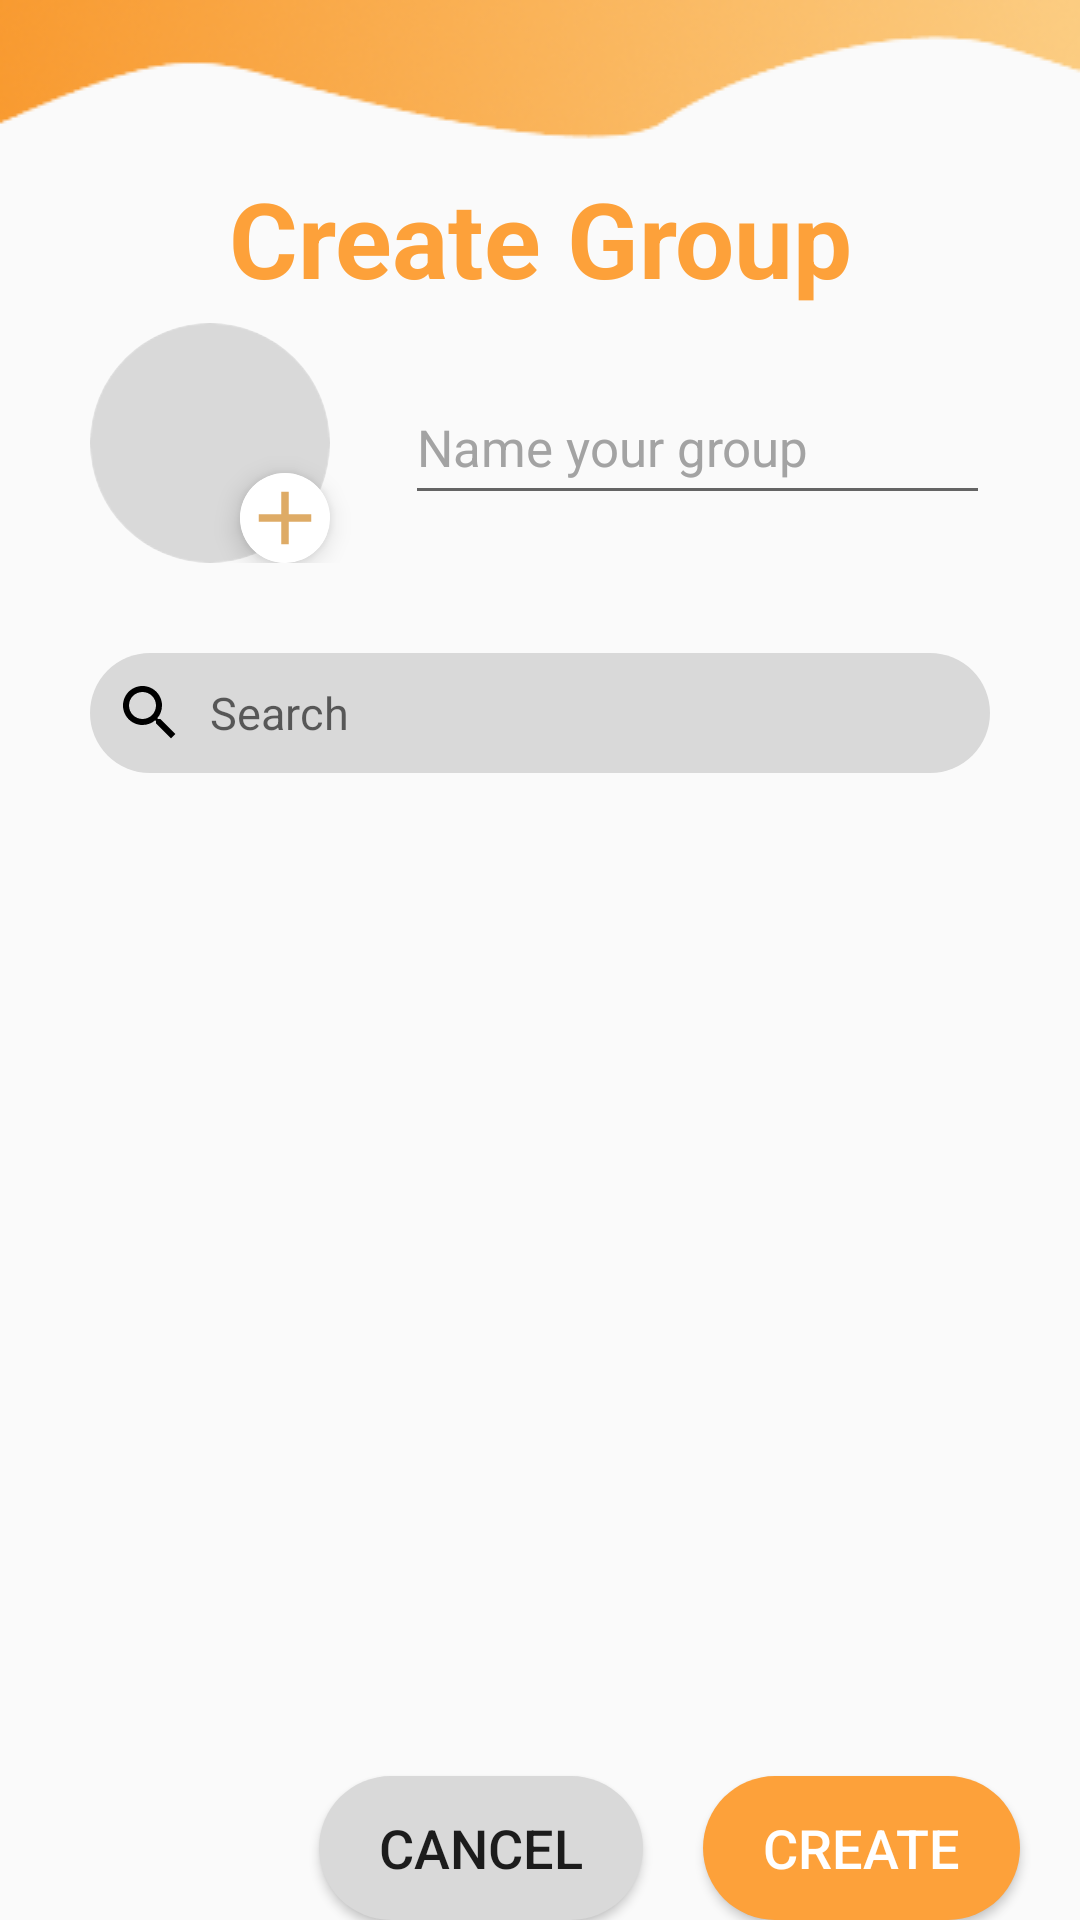

Where to tap for icons on this 1080px×1920px app screen, as point (x, y):
add: point (285, 518)
